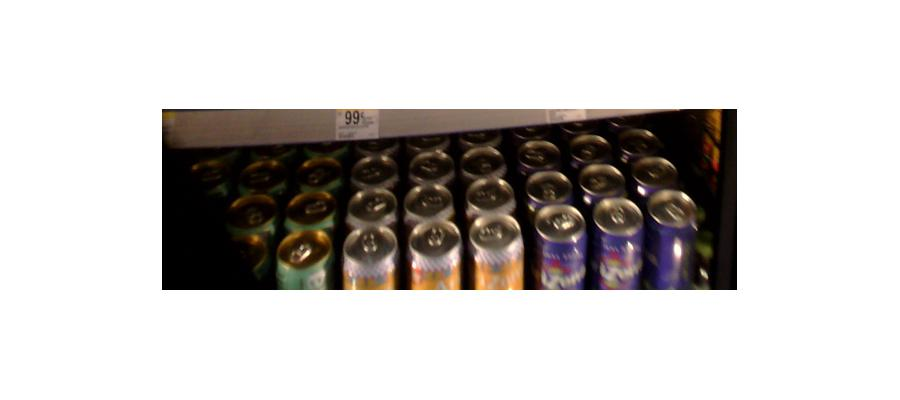bottle: (646, 185, 701, 287), (594, 194, 643, 289), (535, 202, 588, 288), (407, 212, 462, 288), (339, 218, 397, 290), (471, 210, 524, 288)
